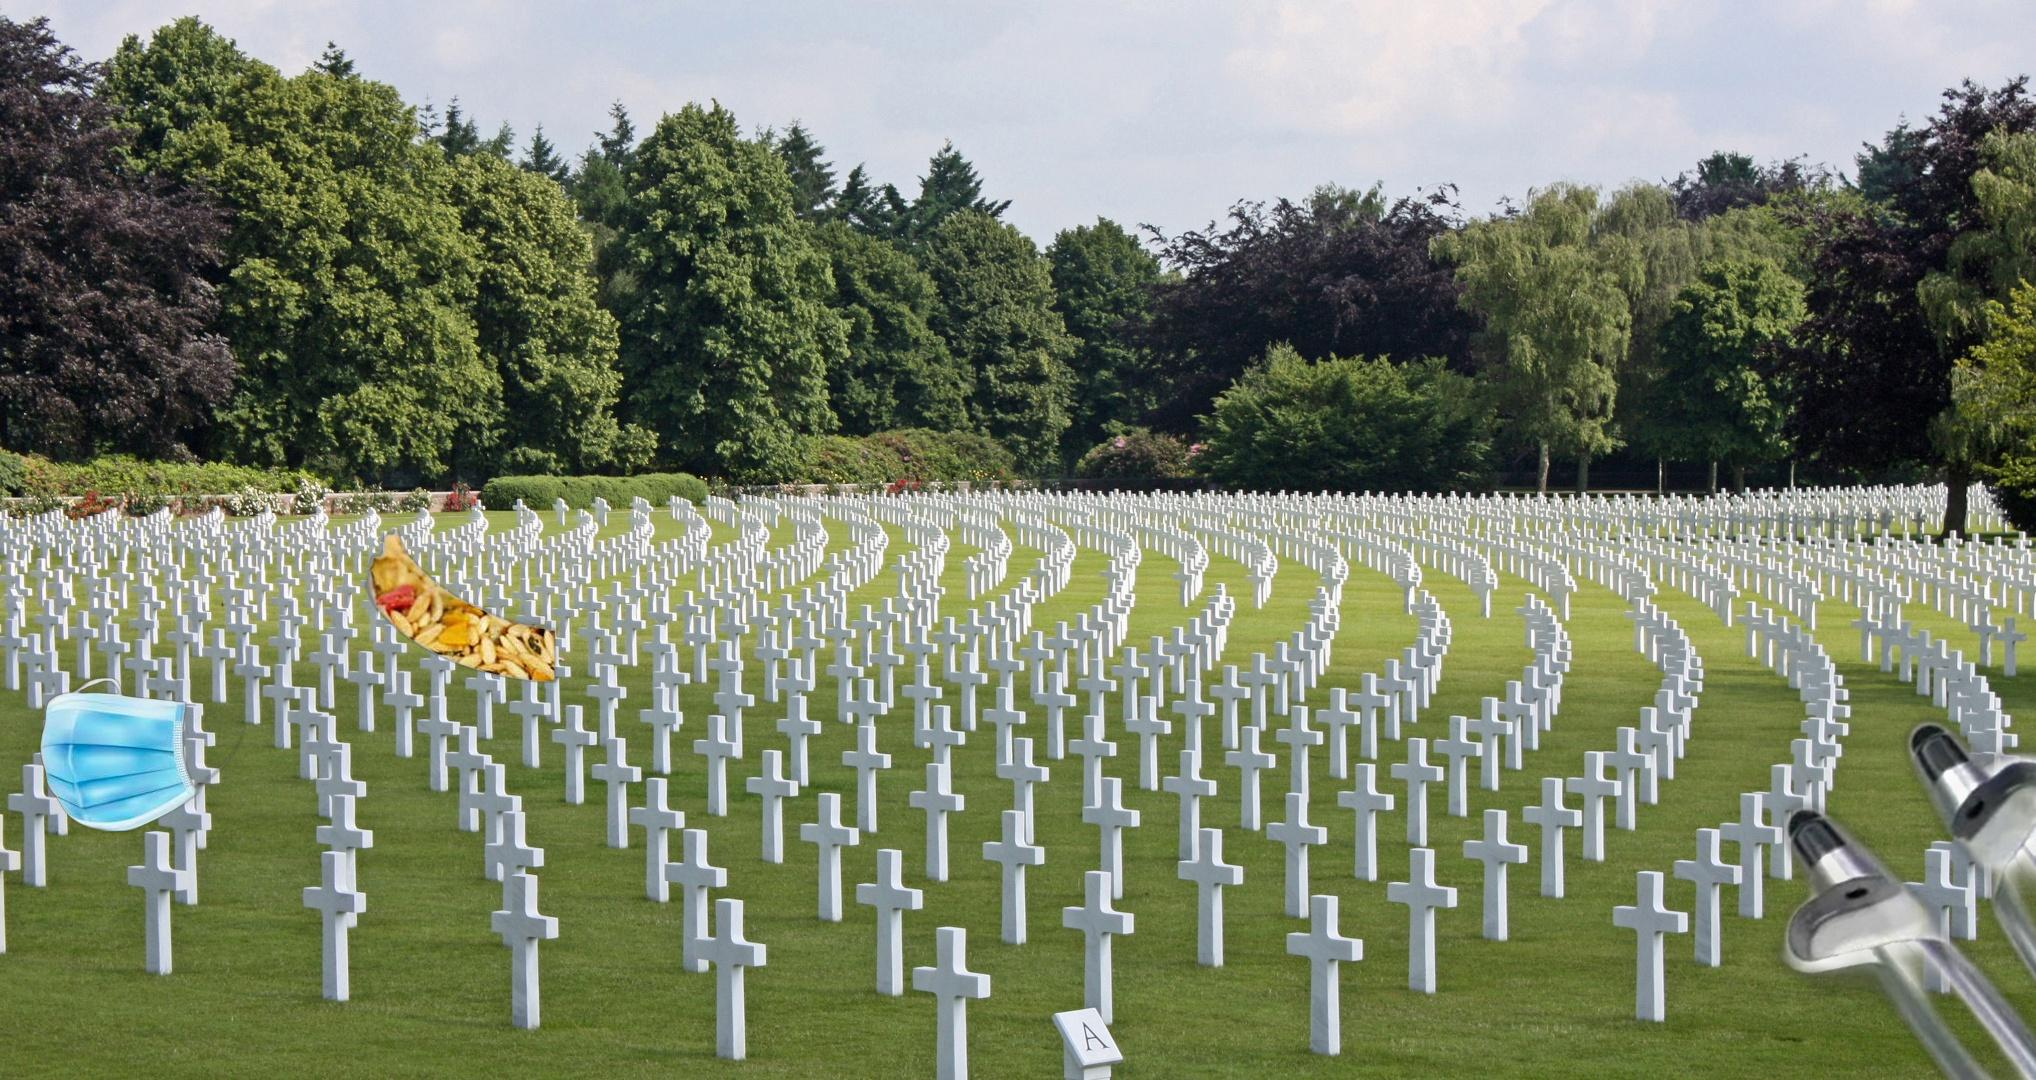biological: (79, 525, 557, 749)
penholder: (1460, 176, 2036, 1080)
trash: (36, 675, 246, 836)
